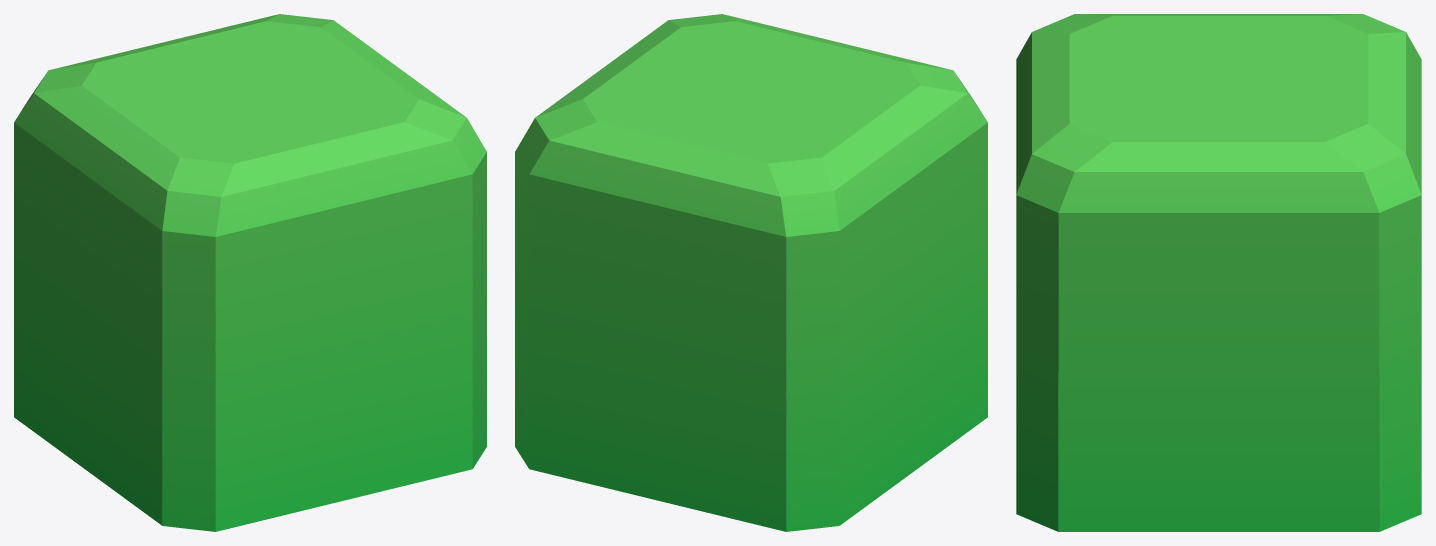
File: StoolGreen.fbx
The picture shows the model from 3 angles, left to right: view 1: azimuth 30°, elevation 25°; view 2: azimuth 150°, elevation 25°; view 3: azimuth 270°, elevation 25°; orthographic projection. The views are drawn at different scales.
Parts seen in each view (by area): view 1: RedStool.001; view 2: RedStool.001; view 3: RedStool.001.
Boxes of the visible parts, x1,y1,x2,y2 form: RedStool.001: [14, 14, 486, 531]; RedStool.001: [515, 14, 987, 531]; RedStool.001: [1016, 14, 1421, 531].
Size of the model in its own units: 75 by 75 by 75.
